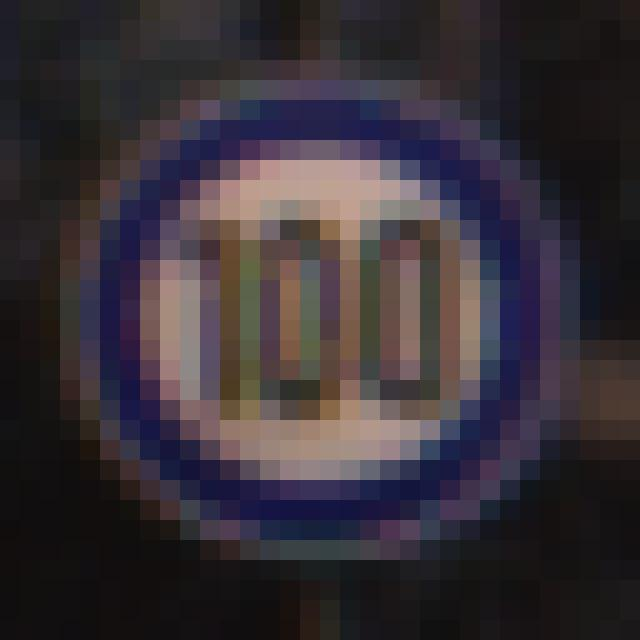SPEED LIMIT 100: (70, 97, 568, 543)
